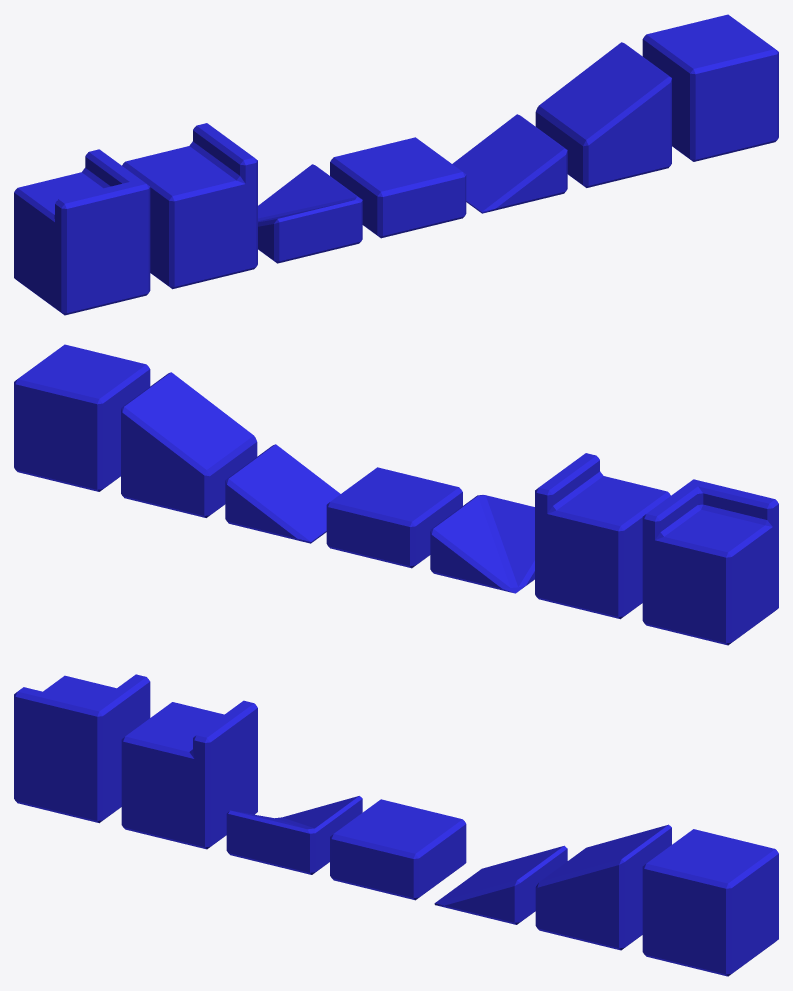
The model's file is world-blocks-v1.glb.
3 views of the same model, one above another, from view 1: azimuth 30°, elevation 25°; view 2: azimuth 150°, elevation 25°; view 3: azimuth 330°, elevation 25° (orthographic).
Parts seen in each view (by area): view 1: BlockWallCorner, BlockWall, Block, RampTop, BlockShort, RampBottom, RampLowerCorner; view 2: BlockWallCorner, BlockWall, Block, RampTop, BlockShort, RampLowerCorner, RampBottom; view 3: BlockWall, Block, BlockWallCorner, RampTop, BlockShort, RampLowerCorner, RampBottom.
Boxes of the visible parts, box(x1,y1,x2,y2) form: BlockWallCorner: box(14, 149, 150, 315); BlockWall: box(122, 123, 257, 289); Block: box(642, 14, 778, 161); RampTop: box(535, 42, 671, 187); BlockShort: box(330, 137, 466, 238); RampBottom: box(452, 114, 567, 213); RampLowerCorner: box(258, 164, 362, 263); BlockWallCorner: box(642, 479, 778, 645); BlockWall: box(535, 453, 670, 619); Block: box(14, 344, 150, 491); RampTop: box(121, 372, 257, 517); BlockShort: box(326, 467, 462, 568); RampLowerCorner: box(430, 495, 534, 593); RampBottom: box(225, 444, 340, 543); BlockWall: box(121, 700, 257, 849); Block: box(642, 829, 778, 976); BlockWallCorner: box(14, 674, 150, 823); RampTop: box(535, 824, 671, 950); BlockShort: box(330, 799, 466, 900); RampLowerCorner: box(226, 796, 362, 874); RampBottom: box(434, 845, 567, 924).
Size of what is drawn, in the model's own units: 16.14 by 2.4 by 2.
